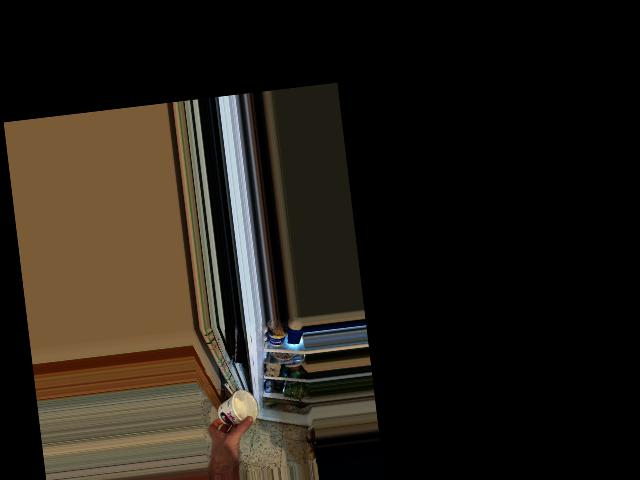cotage: (216, 391, 258, 427)
